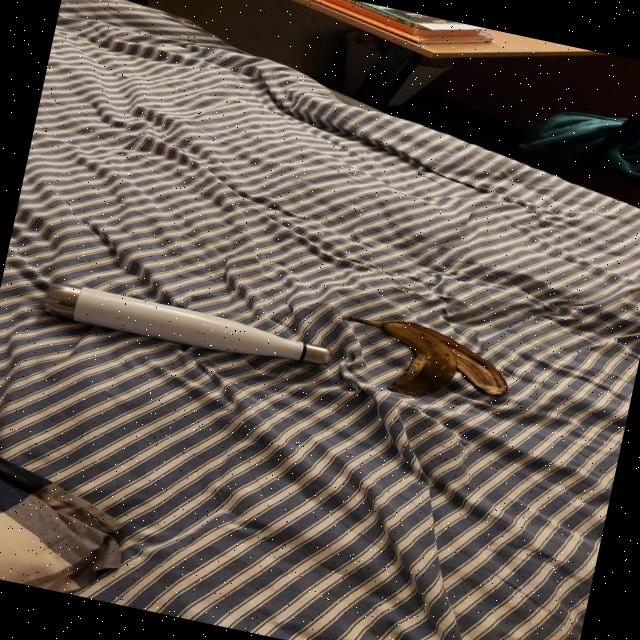banana-peel: (329, 305, 517, 416)
